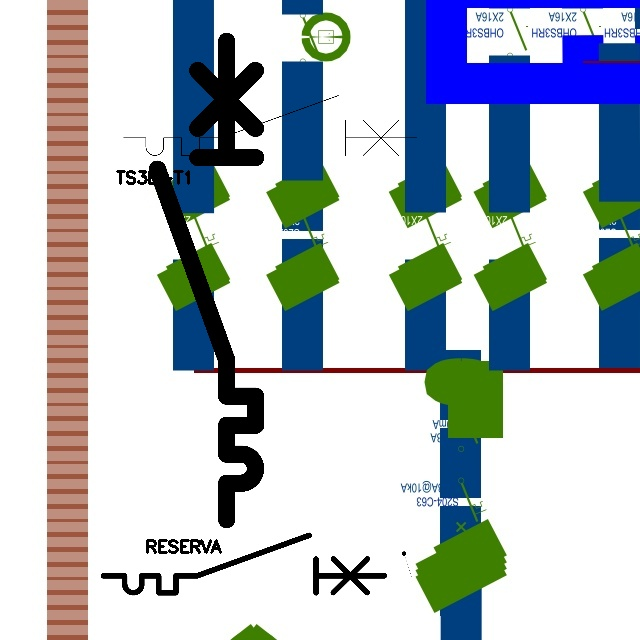interruptor_termomagnetico: (145, 29, 268, 532), (116, 88, 424, 163), (96, 528, 391, 600)
